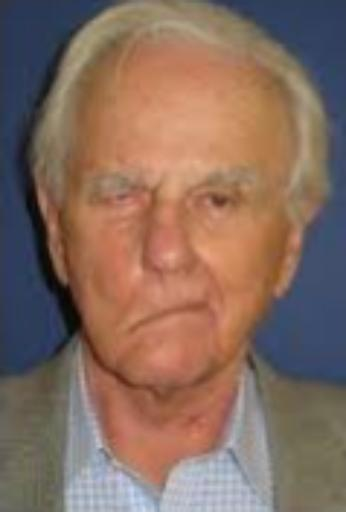left_eye: (193, 188, 243, 214)
left_lip_corner: (196, 299, 219, 319)
right_eye: (98, 187, 145, 211)
right_lip_corner: (118, 312, 150, 343)
